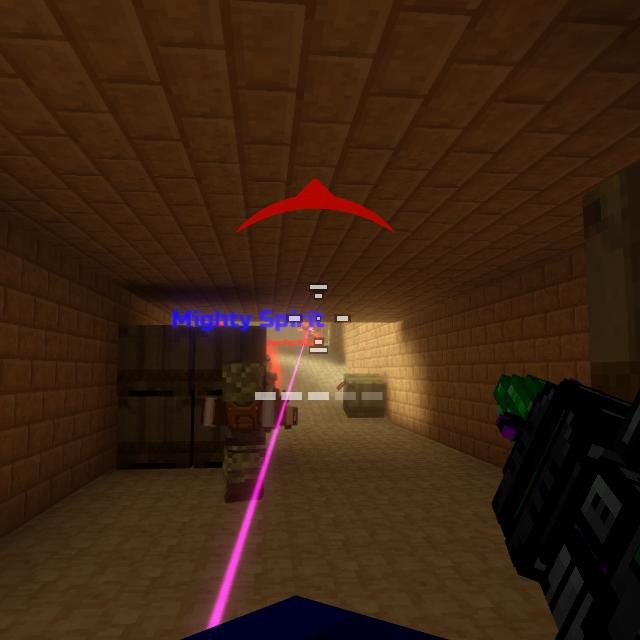Enemy: (266, 354, 278, 388), (303, 322, 321, 343)
